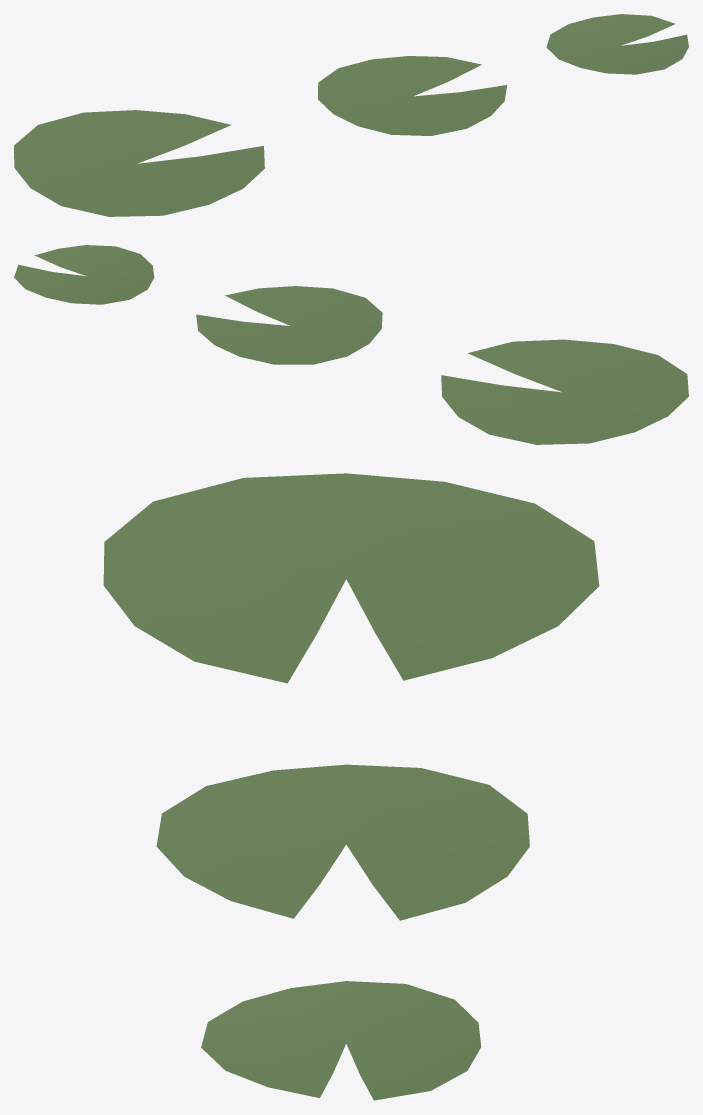
Rendered from ch5-lily.glb.
The picture shows the model from 3 angles, top to bottom: view 1: azimuth 30°, elevation 25°; view 2: azimuth 150°, elevation 25°; view 3: azimuth 270°, elevation 25°; orthographic projection. The views are drawn at different scales.
Visible parts, largest first — view 1: lily_a, lily_b, lily_c; view 2: lily_a, lily_b, lily_c; view 3: lily_a, lily_b, lily_c.
Part boxes in pixels (x1,y1,x2,y2): lily_a: (14,110,264,216); lily_b: (318,56,506,135); lily_c: (546,14,688,74); lily_a: (441,339,688,444); lily_b: (196,286,382,364); lily_c: (14,245,154,304); lily_a: (103,473,599,683); lily_b: (156,764,529,920); lily_c: (201,981,481,1100).
Bounding box in the file's own units: 0.9451 × 0.00317 × 0.3157.
